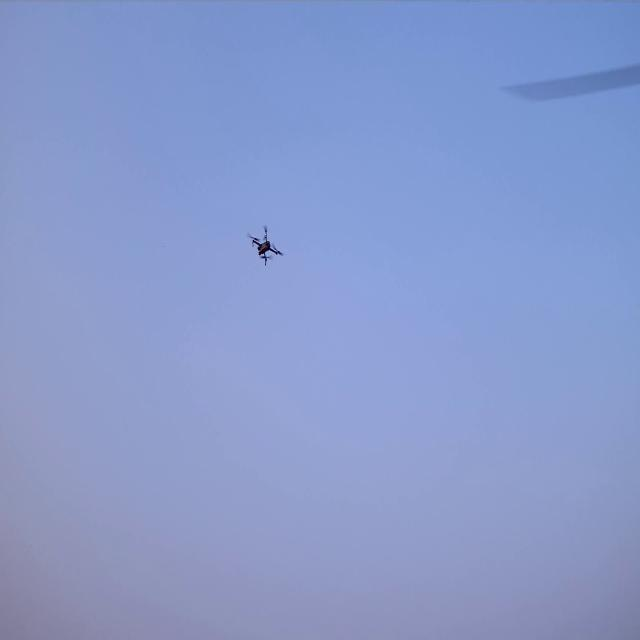UAV: (252, 230, 280, 265)
